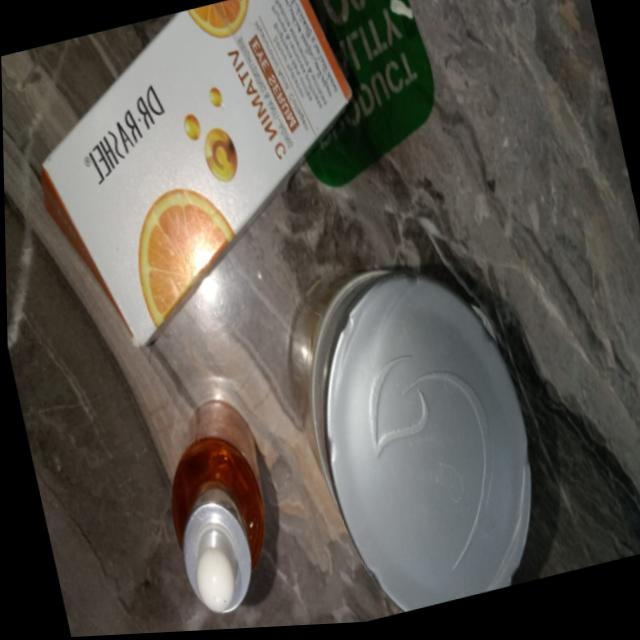gel: (260, 220, 572, 630)
lotion: (3, 0, 422, 388)
setting spray: (116, 362, 326, 636)
